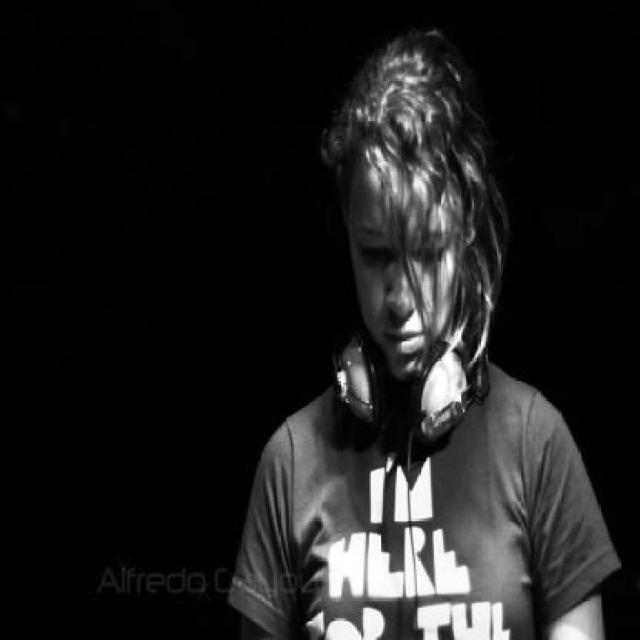earphone: (308, 260, 527, 448)
